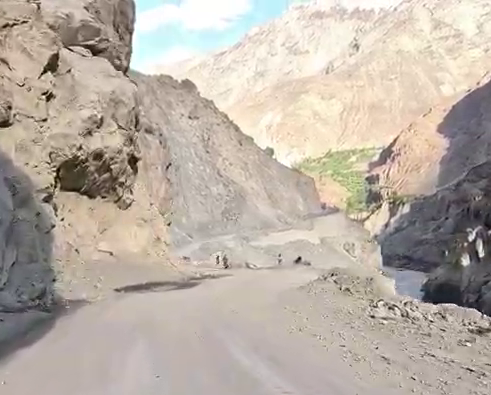unexpected: (147, 212, 451, 354)
